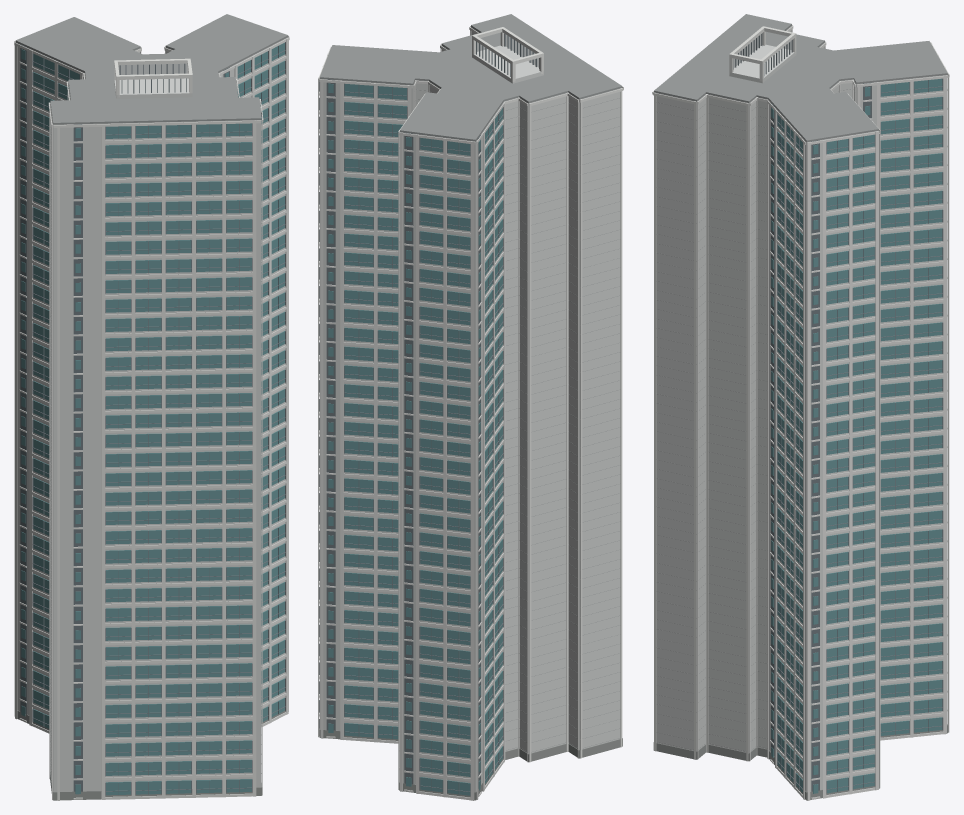
File: bespoke-banpo-riche-104.glb
3 renders of one model, left to right at view 1: azimuth 30°, elevation 25°; view 2: azimuth 150°, elevation 25°; view 3: azimuth 270°, elevation 25°, orthographic. The views are drawn at different scales.
Parts seen in each view (by area): view 1: Riche104_editable_Riche104_teal_rectangular_grouped_windows, Riche104_editable_Riche104_light_grey_solid_wall, Riche104_editable_Riche104_broad_white_facade_frames, Riche104_editable_Riche104_dark_horizontal_spandrels_and_mul, Riche104_editable_Riche104_modest_grey_flat_roof_caps, Riche104_editable_Riche104_dark_recessed_service_strip, Riche104_editable_Riche104_muted_ground_wall; view 2: Riche104_editable_Riche104_light_grey_solid_wall, Riche104_editable_Riche104_teal_rectangular_grouped_windows, Riche104_editable_Riche104_broad_white_facade_frames, Riche104_editable_Riche104_modest_grey_flat_roof_caps, Riche104_editable_Riche104_dark_horizontal_spandrels_and_mul, Riche104_editable_Riche104_dark_recessed_service_strip, Riche104_editable_Riche104_muted_ground_wall; view 3: Riche104_editable_Riche104_light_grey_solid_wall, Riche104_editable_Riche104_teal_rectangular_grouped_windows, Riche104_editable_Riche104_broad_white_facade_frames, Riche104_editable_Riche104_modest_grey_flat_roof_caps, Riche104_editable_Riche104_dark_horizontal_spandrels_and_mul, Riche104_editable_Riche104_dark_recessed_service_strip, Riche104_editable_Riche104_muted_ground_wall.
Boxes of the visible parts, <box> form: Riche104_editable_Riche104_teal_rectangular_grouped_windows: <box>21,42,284,795</box>; Riche104_editable_Riche104_light_grey_solid_wall: <box>15,37,288,791</box>; Riche104_editable_Riche104_broad_white_facade_frames: <box>14,36,289,800</box>; Riche104_editable_Riche104_dark_horizontal_spandrels_and_mul: <box>32,42,285,795</box>; Riche104_editable_Riche104_modest_grey_flat_roof_caps: <box>15,14,288,783</box>; Riche104_editable_Riche104_dark_recessed_service_strip: <box>20,44,229,791</box>; Riche104_editable_Riche104_muted_ground_wall: <box>17,710,285,800</box>; Riche104_editable_Riche104_light_grey_solid_wall: <box>320,27,620,791</box>; Riche104_editable_Riche104_teal_rectangular_grouped_windows: <box>328,83,502,795</box>; Riche104_editable_Riche104_broad_white_facade_frames: <box>318,26,623,800</box>; Riche104_editable_Riche104_modest_grey_flat_roof_caps: <box>320,14,622,752</box>; Riche104_editable_Riche104_dark_horizontal_spandrels_and_mul: <box>319,80,503,795</box>; Riche104_editable_Riche104_dark_recessed_service_strip: <box>326,33,539,788</box>; Riche104_editable_Riche104_muted_ground_wall: <box>319,728,622,800</box>; Riche104_editable_Riche104_light_grey_solid_wall: <box>654,26,947,792</box>; Riche104_editable_Riche104_teal_rectangular_grouped_windows: <box>771,78,942,793</box>; Riche104_editable_Riche104_broad_white_facade_frames: <box>652,25,949,800</box>; Riche104_editable_Riche104_modest_grey_flat_roof_caps: <box>654,14,947,751</box>; Riche104_editable_Riche104_dark_horizontal_spandrels_and_mul: <box>777,78,943,793</box>; Riche104_editable_Riche104_dark_recessed_service_strip: <box>733,33,871,791</box>; Riche104_editable_Riche104_muted_ground_wall: <box>653,724,948,800</box>.
Size of the model in its own units: 40.59 by 101 by 39.84.
